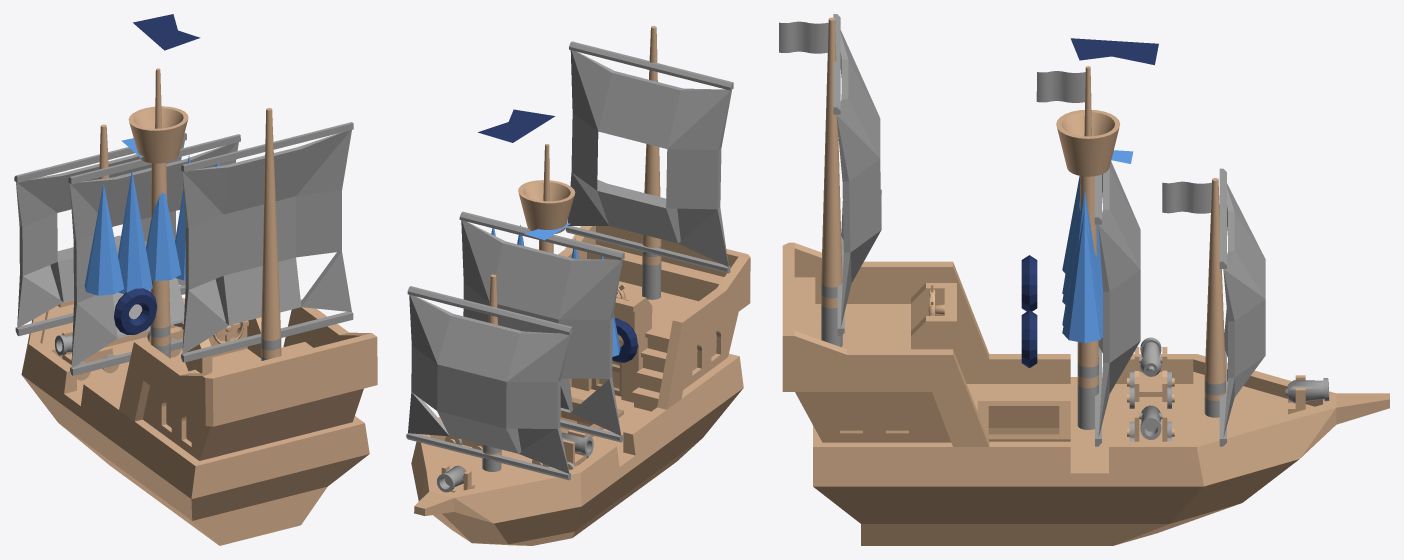
The model's file is ile_09_abysses_bleus_anime.glb.
The picture shows the model from 3 angles, left to right: view 1: azimuth 30°, elevation 25°; view 2: azimuth 150°, elevation 25°; view 3: azimuth 270°, elevation 25°; orthographic projection. The views are drawn at different scales.
Parts seen in each view (by area): view 1: navire_pirate_sombre_assimp, Cristal_Abysses_0, Cristal_Abysses_1, Cristal_Abysses_2, Anneau_Abysses.001, Grand_Pavillon, Cristal_Abysses_3; view 2: navire_pirate_sombre_assimp, Grand_Pavillon, Anneau_Abysses.001; view 3: navire_pirate_sombre_assimp, Cristal_Abysses_4, Grand_Pavillon, Anneau_Abysses, Anneau_Abysses.001, Cristal_Abysses_3.
Boxes of the visible parts, x1=… form: navire_pirate_sombre_assimp: x1=14, y1=68, x2=377, y2=545; Cristal_Abysses_0: x1=84, y1=183, x2=124, y2=295; Cristal_Abysses_1: x1=118, y1=170, x2=152, y2=293; Cristal_Abysses_2: x1=146, y1=192, x2=181, y2=280; Anneau_Abysses.001: x1=114, y1=288, x2=157, y2=334; Grand_Pavillon: x1=133, y1=14, x2=200, y2=50; Cristal_Abysses_3: x1=175, y1=155, x2=190, y2=280; navire_pirate_sombre_assimp: x1=406, y1=26, x2=750, y2=545; Grand_Pavillon: x1=478, y1=109, x2=555, y2=142; Anneau_Abysses.001: x1=612, y1=318, x2=637, y2=362; navire_pirate_sombre_assimp: x1=779, y1=14, x2=1389, y2=545; Cristal_Abysses_4: x1=1062, y1=212, x2=1102, y2=342; Grand_Pavillon: x1=1070, y1=38, x2=1158, y2=65; Anneau_Abysses: x1=1021, y1=310, x2=1037, y2=367; Anneau_Abysses.001: x1=1021, y1=255, x2=1037, y2=311; Cristal_Abysses_3: x1=1062, y1=189, x2=1102, y2=325.
Size of the model in its own units: 30.78 by 72.07 by 79.36.
